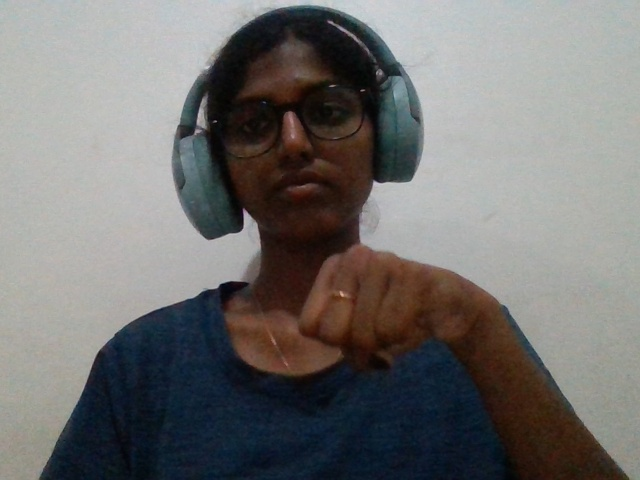Yes: (290, 227, 507, 392)
